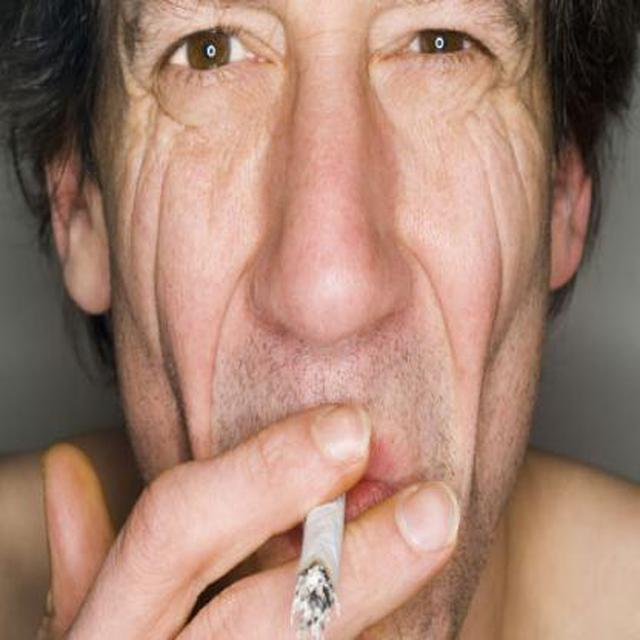smoking: (290, 468, 348, 638)
